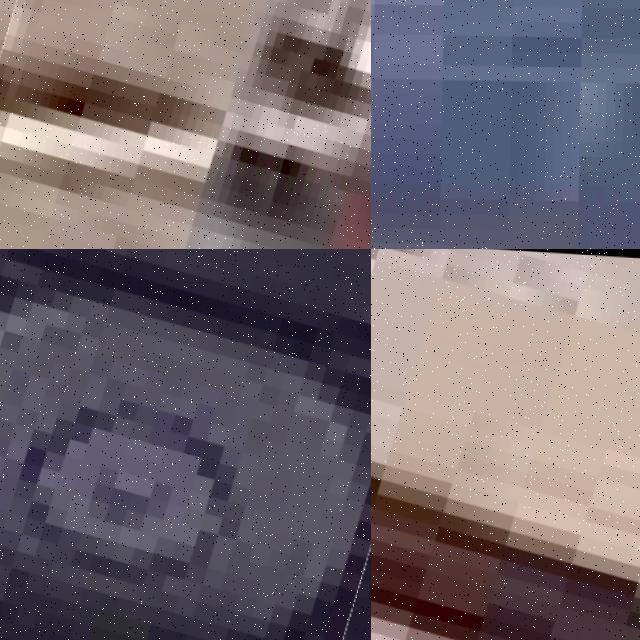drone: (0, 249, 371, 640), (371, 249, 640, 640), (0, 0, 371, 249)
